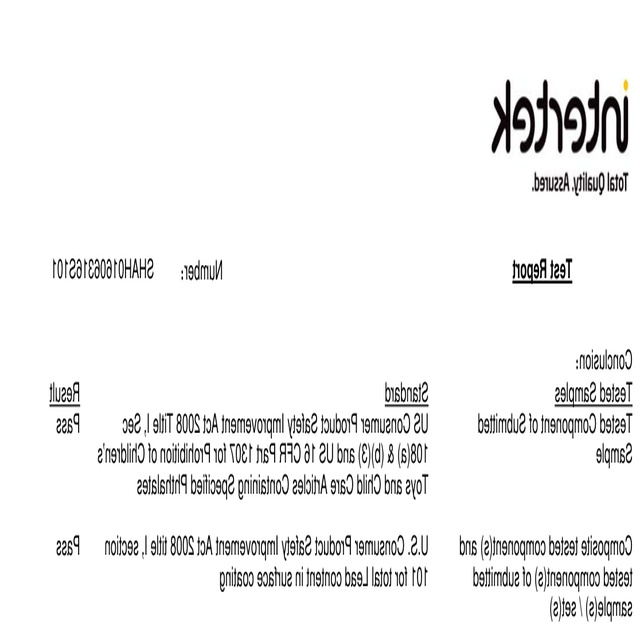intertek: (485, 75, 635, 158)
